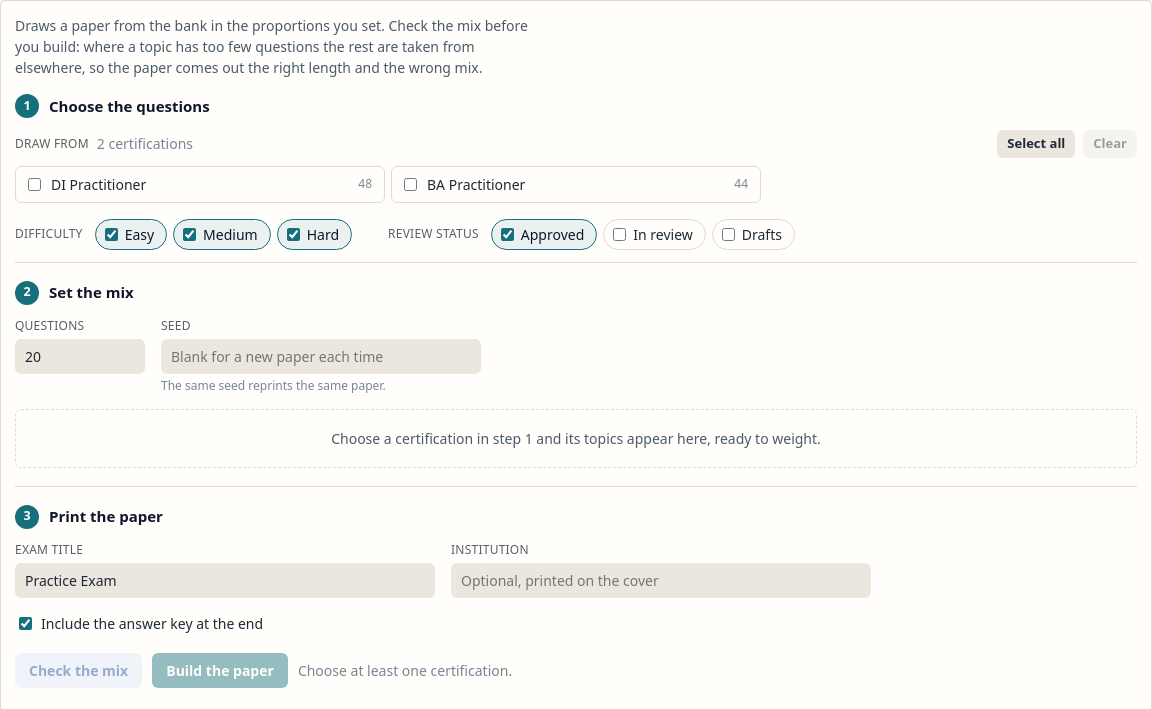
it: setting up the weighting › splits the topics evenly to a total of 100
The image size is (1152, 709).
Click the checkbox labelled "DI Practitioner 48".
click(34, 184)  # box top-left (28, 178), bottom-right (41, 190)
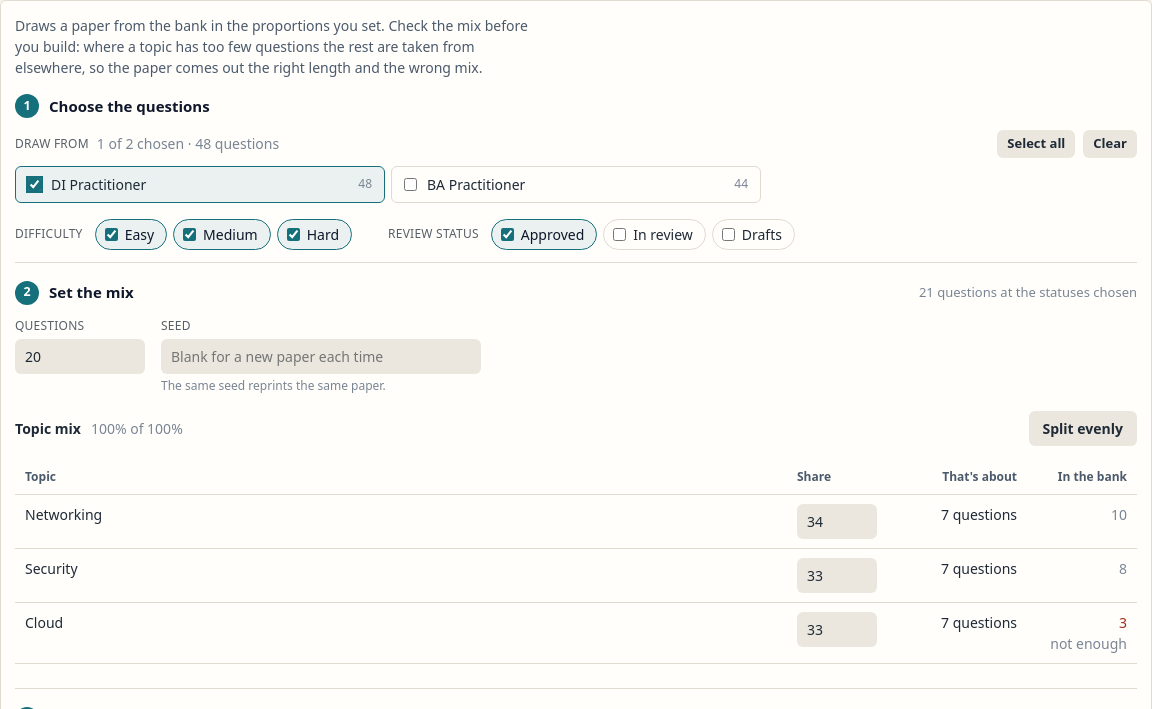
Expected: the number field named "Networking share" holds "34", top-left (797, 504), bottom-right (877, 538)
Expected: the number field named "Security share" holds "33", top-left (797, 558), bottom-right (877, 592)
Expected: the number field named "Cloud share" holds "33", top-left (797, 612), bottom-right (877, 646)
